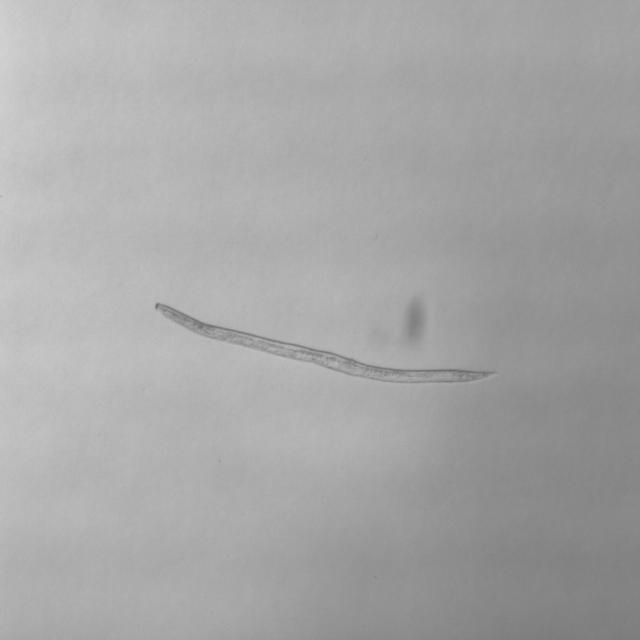Radopholus: (140, 295, 498, 397)
